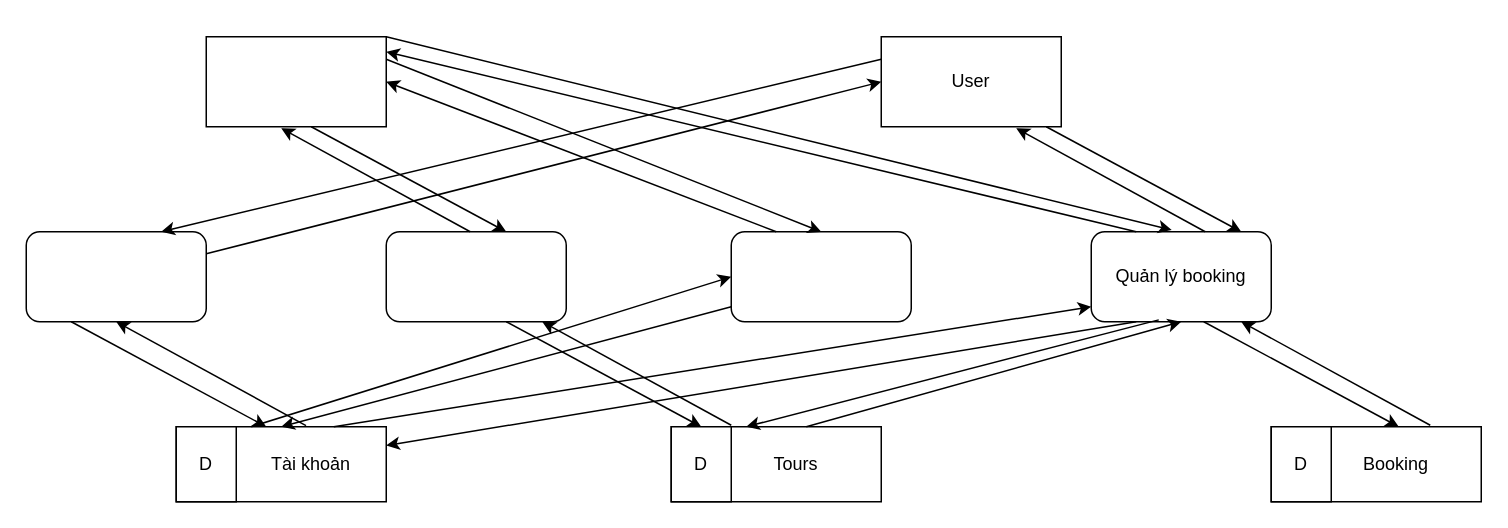
The diagram is 1508 pixels wide and 528 high, and some of its shapes have lost their labels. Each missing label, with the centre of its shape:
"Admin" goes at pixel 295 81.
"Quản lý người dùng" goes at pixel 820 276.
"Quản lý Tours" goes at pixel 475 276.
"Quản lý tài khoản" goes at pixel 115 276.
